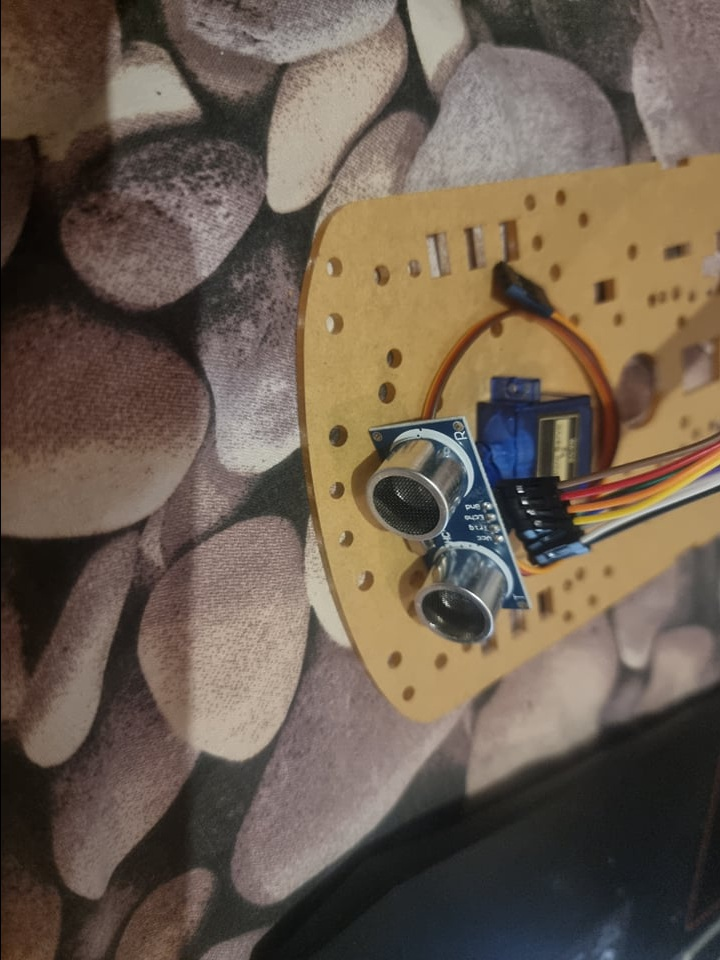SENSOR: (360, 415, 531, 646)
